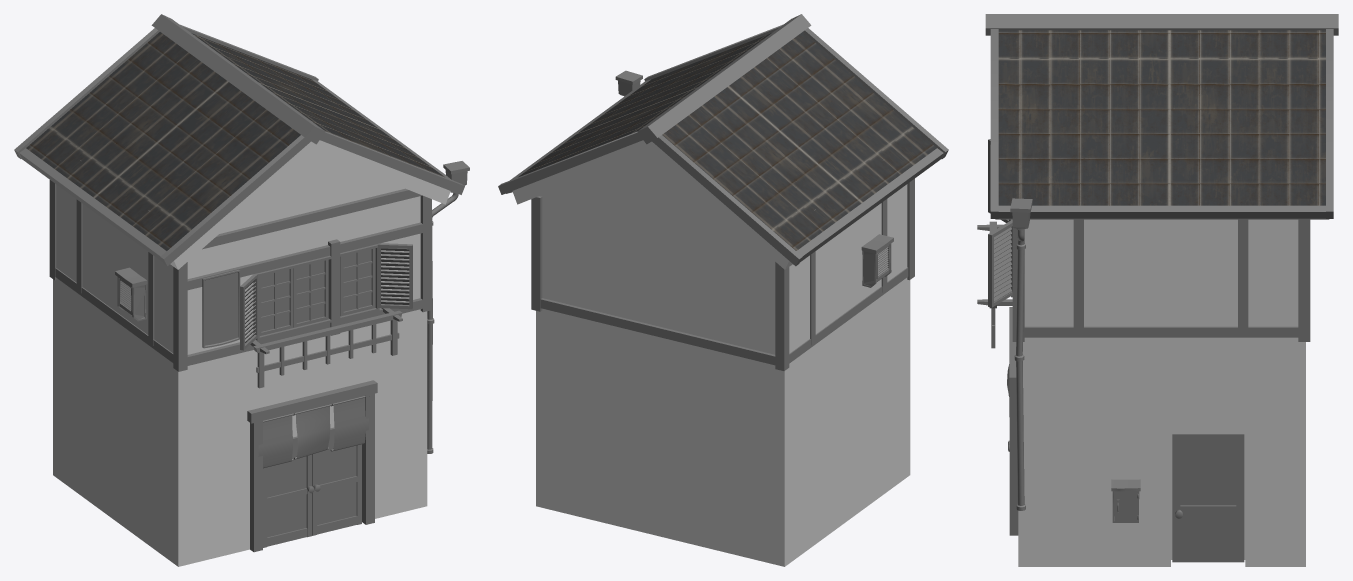
The model's file is SM_house_japan_06.fbx.
3 renders of one model, left to right at view 1: azimuth 30°, elevation 25°; view 2: azimuth 150°, elevation 25°; view 3: azimuth 270°, elevation 25°, orthographic. The views are drawn at different scales.
Parts seen in each view (by area): view 1: Object32342; view 2: Object32342; view 3: Object32342.
Boxes of the visible parts, bbox=[...] form: Object32342: bbox=[14, 14, 469, 566]; Object32342: bbox=[498, 14, 948, 566]; Object32342: bbox=[977, 14, 1338, 566].
Bounding box in the file's own units: 288 × 367 × 249.
